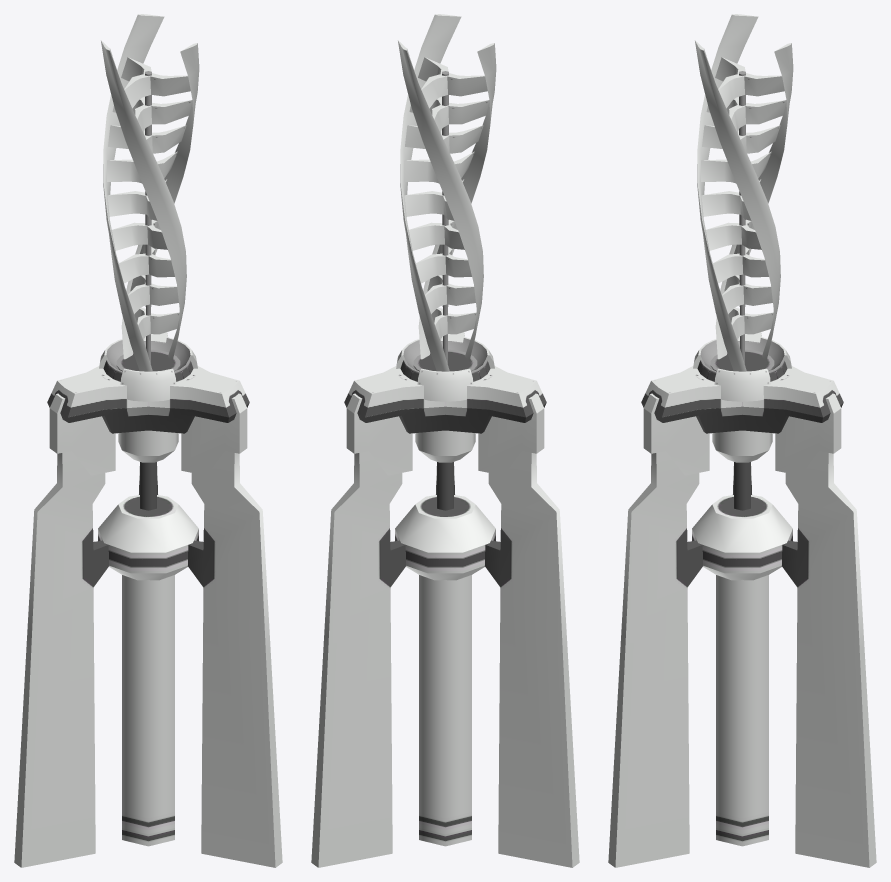
The model's file is wind-turbine.glb.
The picture shows the model from 3 angles, left to right: view 1: azimuth 30°, elevation 25°; view 2: azimuth 150°, elevation 25°; view 3: azimuth 270°, elevation 25°; orthographic projection.
Parts seen in each view (by area): view 1: wind-tuibine-a, wind-tuibine-b; view 2: wind-tuibine-a, wind-tuibine-b; view 3: wind-tuibine-a, wind-tuibine-b.
Part boxes in pixels (x1,y1,x2,y2): wind-tuibine-a: (14, 332, 282, 867); wind-tuibine-b: (101, 14, 199, 371); wind-tuibine-a: (311, 332, 579, 867); wind-tuibine-b: (398, 14, 496, 371); wind-tuibine-a: (608, 332, 876, 867); wind-tuibine-b: (695, 14, 793, 371).
Bounding box in the file's own units: 4.55 × 17.24 × 5.26.
Materials: 1 (1 with a texture image).
